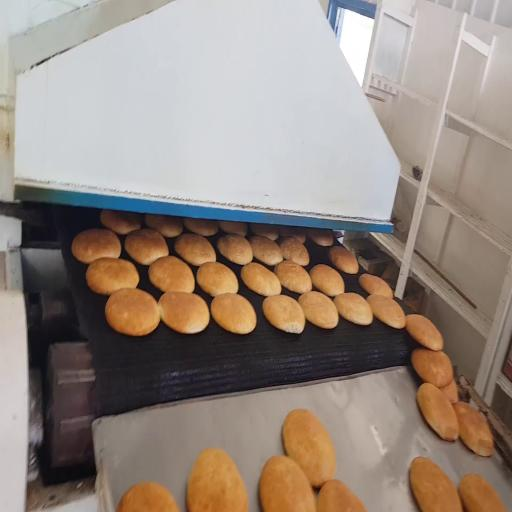bread: (283, 409, 336, 487), (187, 448, 248, 511), (259, 456, 315, 511), (410, 458, 462, 511), (105, 289, 160, 336), (417, 383, 458, 440), (158, 292, 209, 334), (453, 403, 493, 456), (86, 258, 139, 295), (211, 293, 256, 334), (116, 482, 179, 511), (72, 229, 121, 264), (149, 256, 195, 293), (459, 475, 506, 511), (412, 349, 453, 388), (263, 295, 305, 333), (125, 229, 169, 265), (317, 480, 366, 511), (299, 292, 338, 329), (197, 262, 238, 296), (406, 314, 443, 350), (241, 263, 281, 296), (175, 234, 216, 266), (367, 295, 405, 329), (334, 293, 373, 325), (274, 261, 312, 293), (217, 234, 253, 265), (310, 265, 344, 296), (100, 210, 141, 234), (250, 236, 283, 265), (279, 237, 309, 266), (145, 214, 182, 237), (359, 274, 393, 298), (329, 247, 358, 274), (183, 219, 218, 236), (279, 226, 306, 243), (251, 224, 278, 240), (308, 229, 333, 246), (219, 221, 247, 236), (440, 380, 458, 403)
